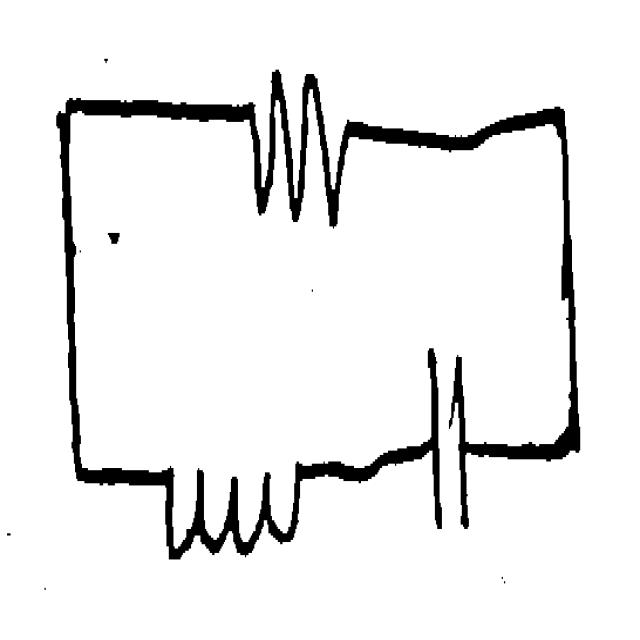capacitor: (417, 327, 478, 562)
inductor: (151, 429, 309, 567)
resistor: (230, 60, 358, 236)
